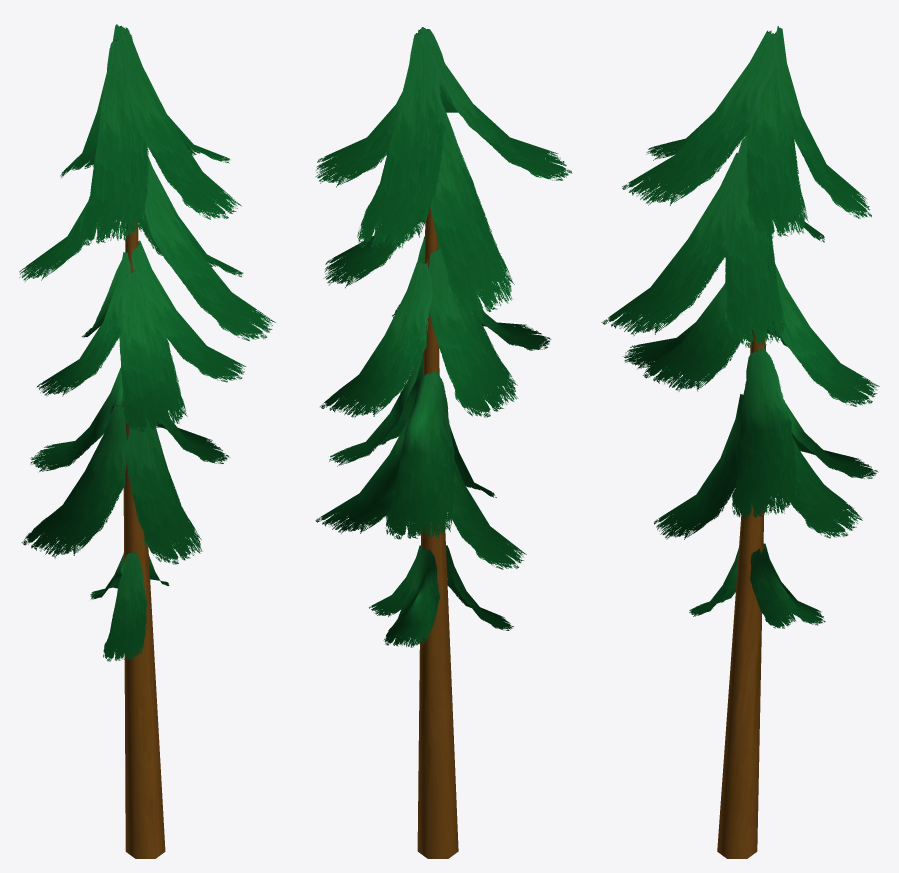
Rendered from SM_Tree2_01.fbx.
3 views of the same model, side by side, from view 1: azimuth 30°, elevation 25°; view 2: azimuth 150°, elevation 25°; view 3: azimuth 270°, elevation 25° (orthographic). The views are drawn at different scales.
Visible parts, largest first — view 1: SM_Tree2_01_LOD0; view 2: SM_Tree2_01_LOD0; view 3: SM_Tree2_01_LOD0.
Part boxes in pixels (<box>): SM_Tree2_01_LOD0: <box>19,24,275,858</box>; SM_Tree2_01_LOD0: <box>315,27,572,858</box>; SM_Tree2_01_LOD0: <box>601,26,879,858</box>.
Size of what is drawn, in the model's own units: 308 by 1185 by 366.
